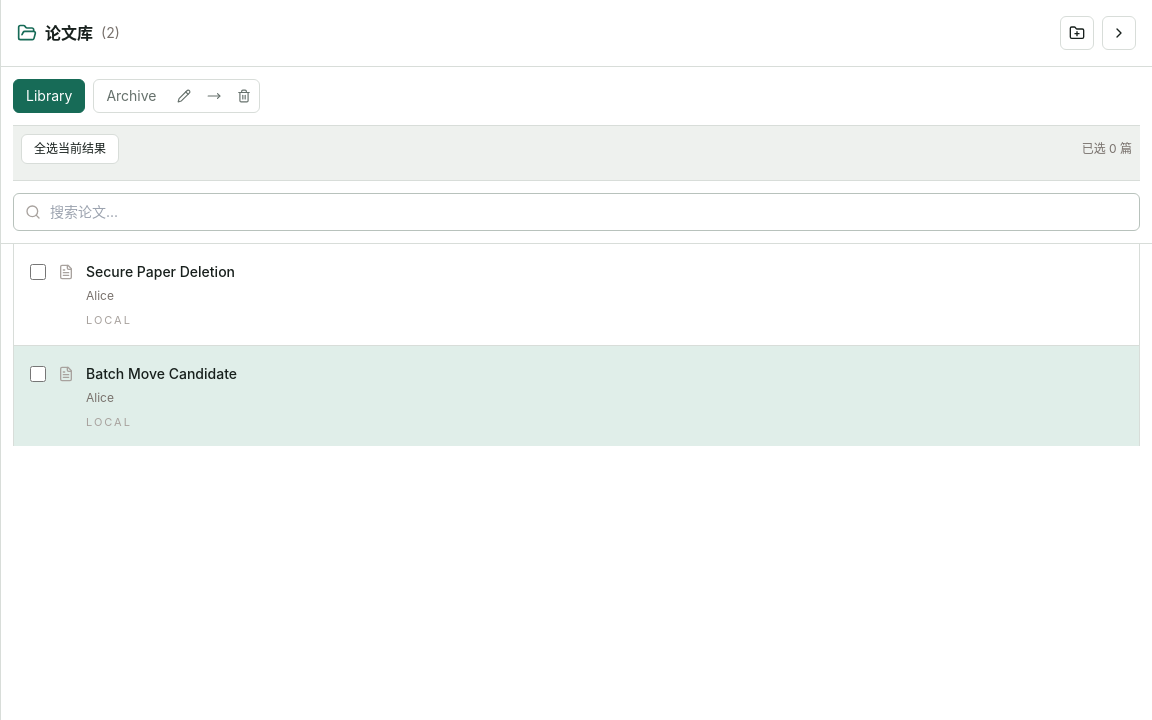
Test: PaperListPanel › batch moves selected papers to another folder and clears selection
Click the checkbox named "选择论文 Secure Paper Deletion": (38, 272) left=30, top=264, right=46, bottom=280
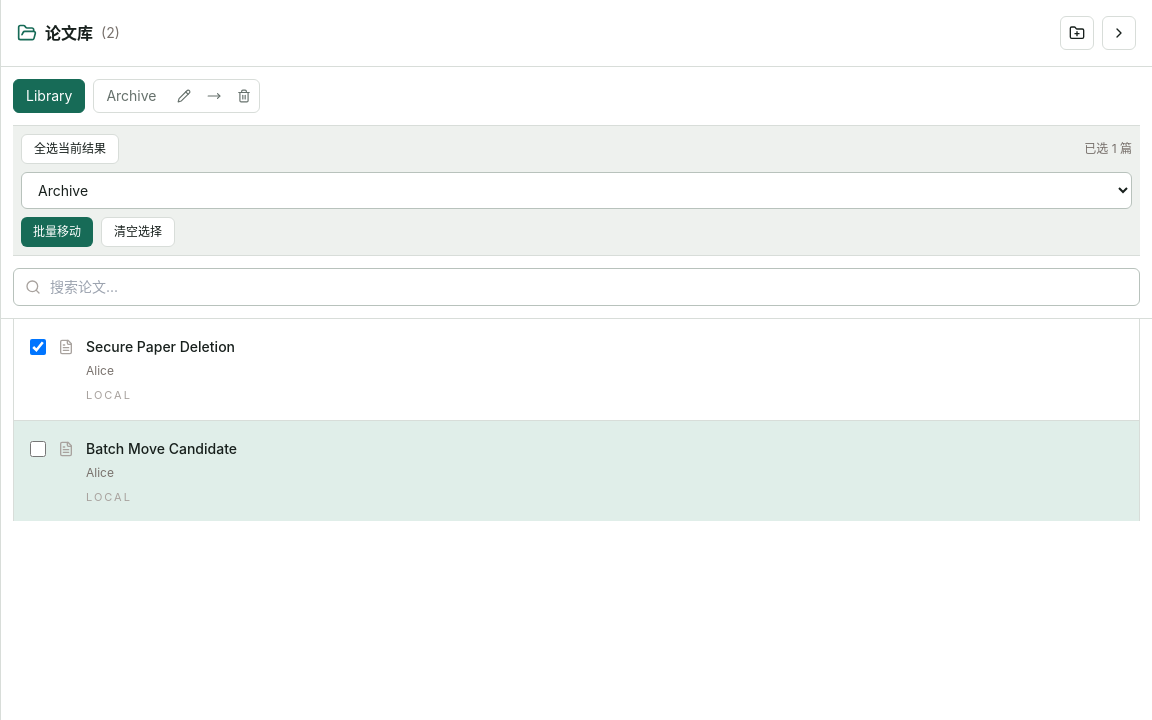
Click the checkbox named "选择论文 Batch Move Candidate": (38, 448) left=30, top=440, right=46, bottom=456
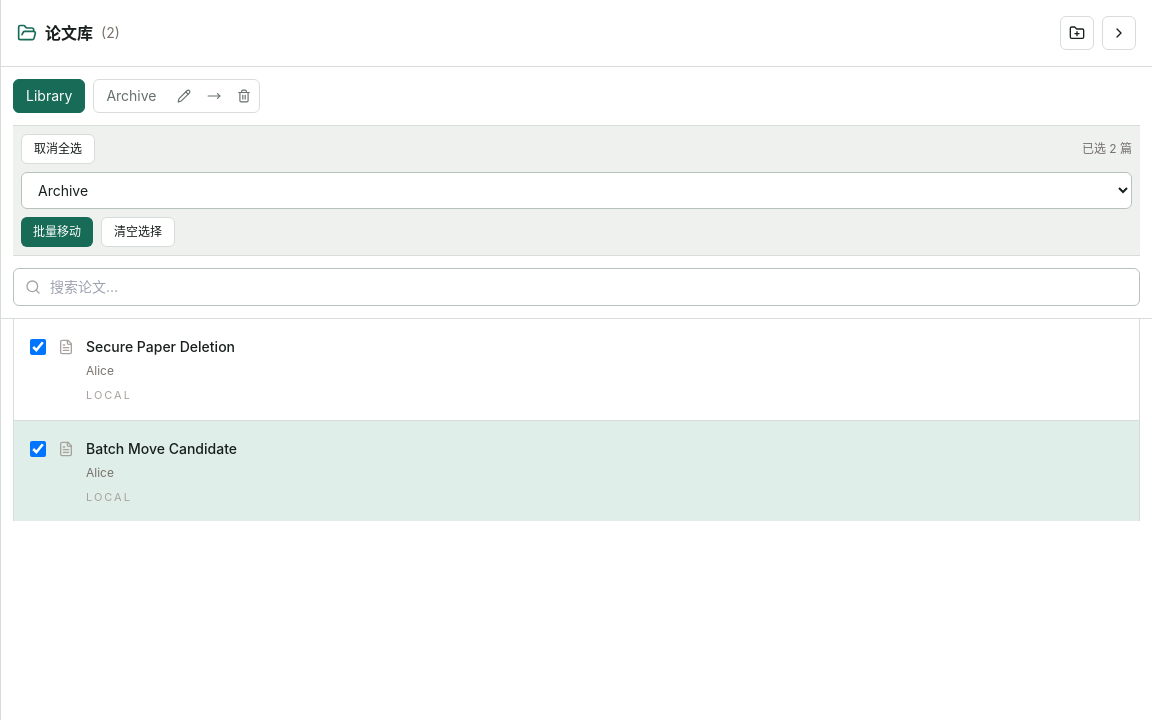
Expected: the dropdown named "批量移动目标文件夹" shows "Archive", left=21, top=172, right=1132, bottom=209
Expected: the text "已选 2 篇" is shown, left=1082, top=141, right=1132, bottom=157
Click the button "批量移动": (57, 232) left=21, top=217, right=93, bottom=247
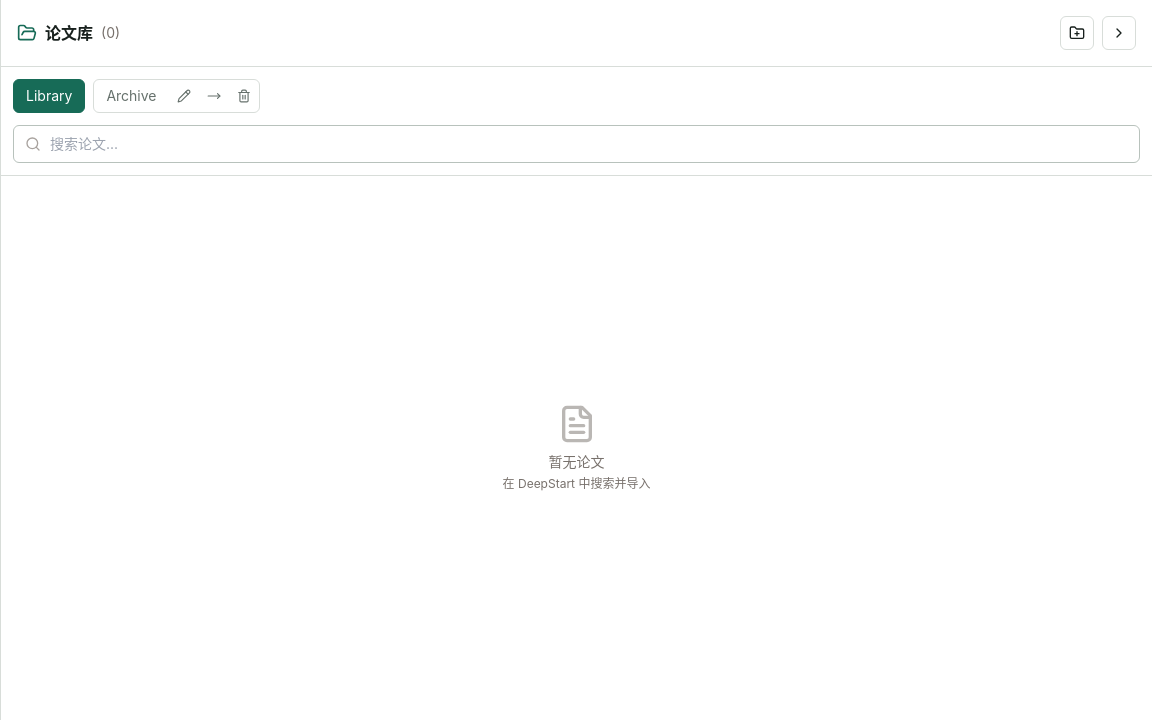
Expected: the text "已选 2 篇" is gone
